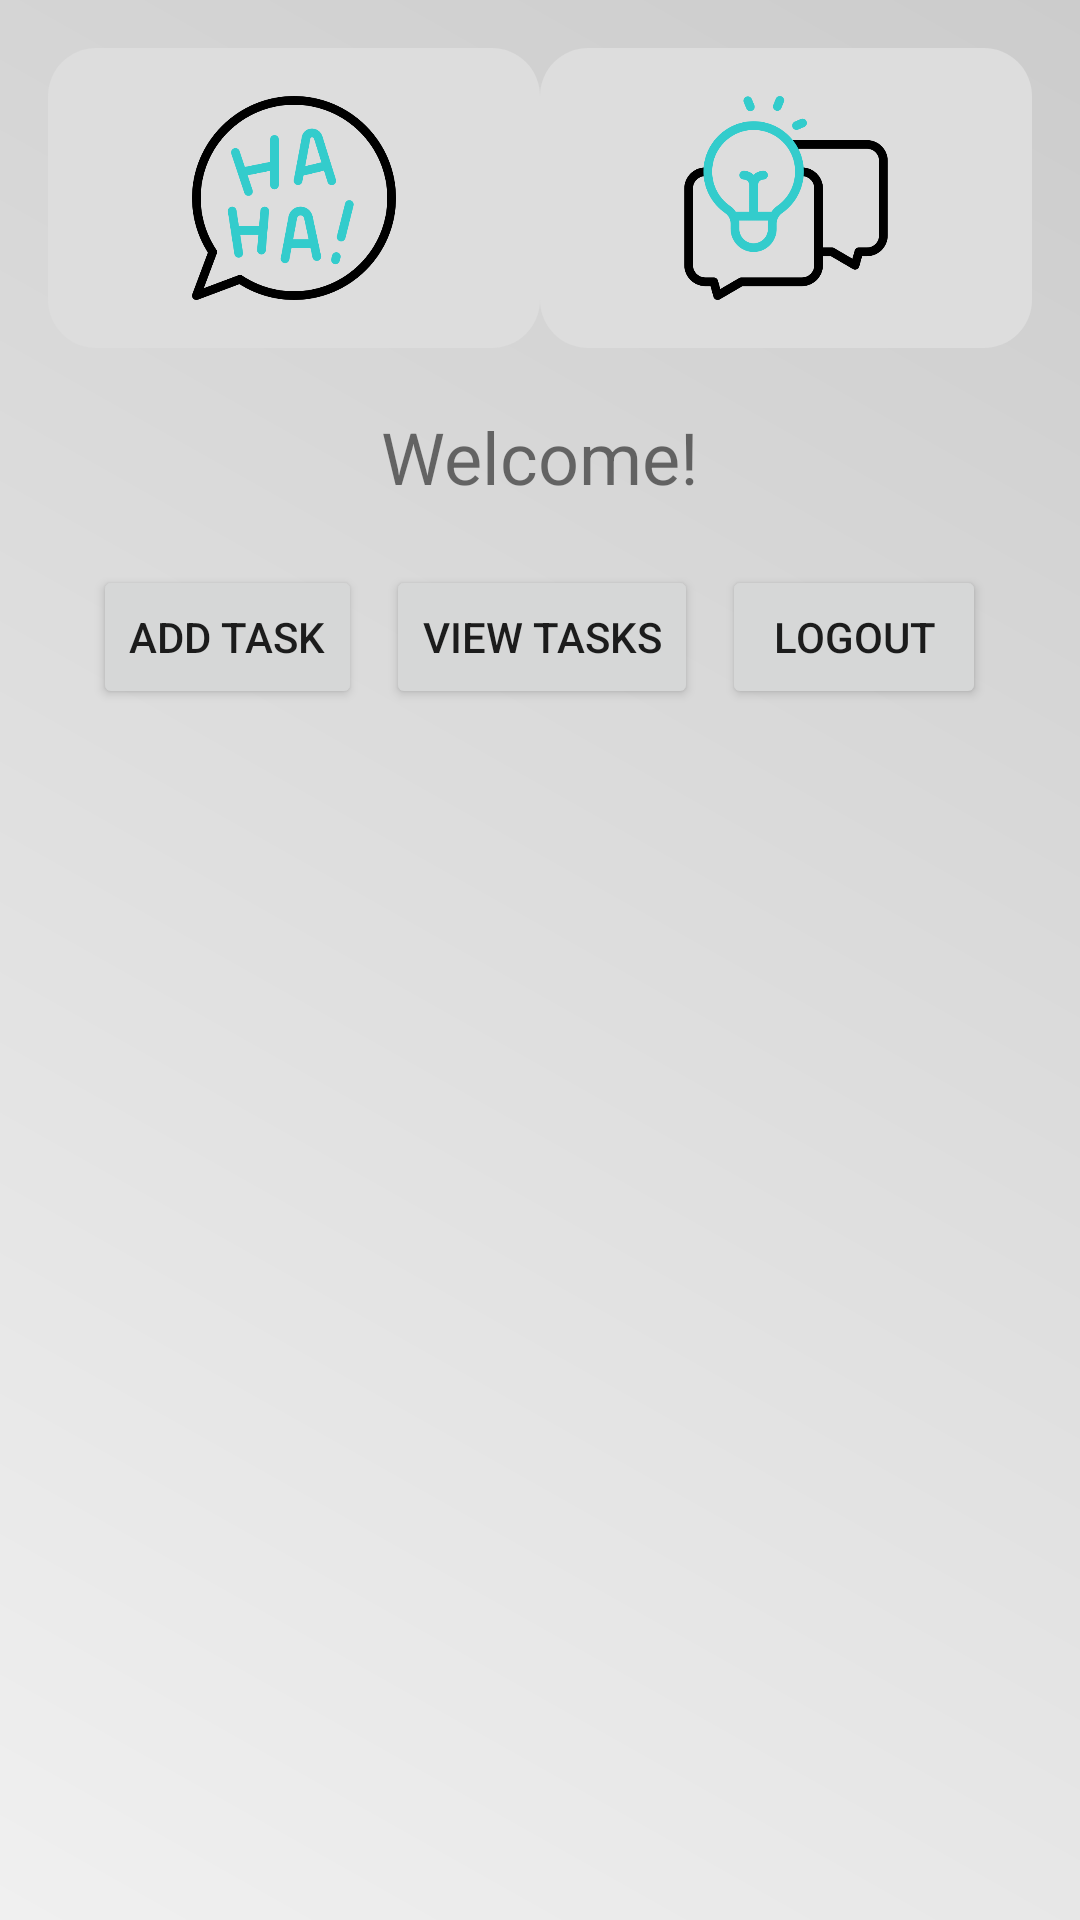

Screen size 1080w x 1920h. Icon name, then its box in pixels as (x1,y1,x2,y2):
Joke: (192,96,396,300)
